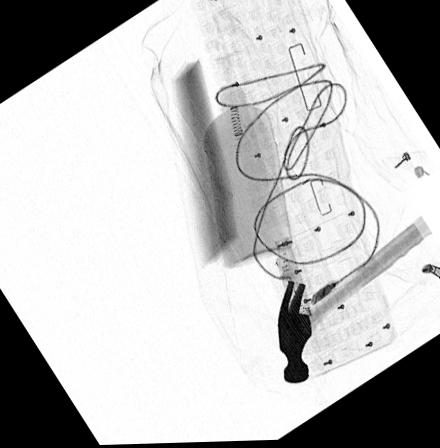Hammer: (277, 218, 432, 384)
